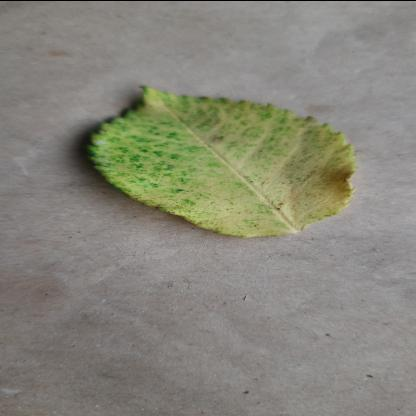black-spot: (88, 80, 358, 236)
